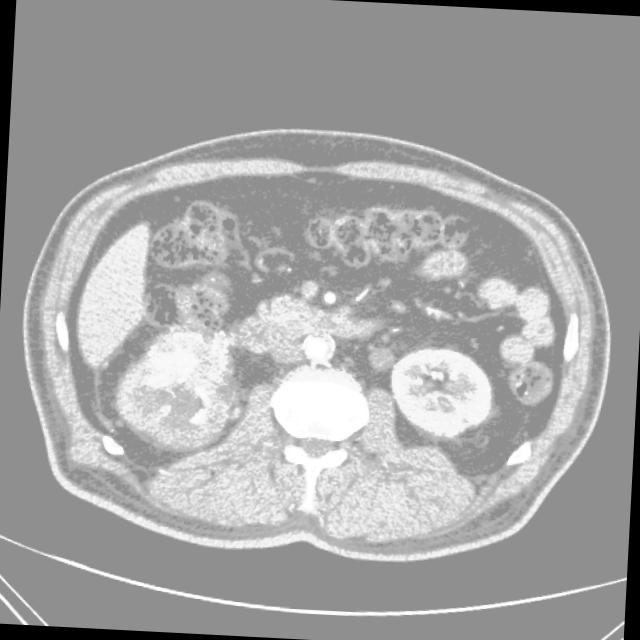TUMOR: (59, 284, 501, 465)
